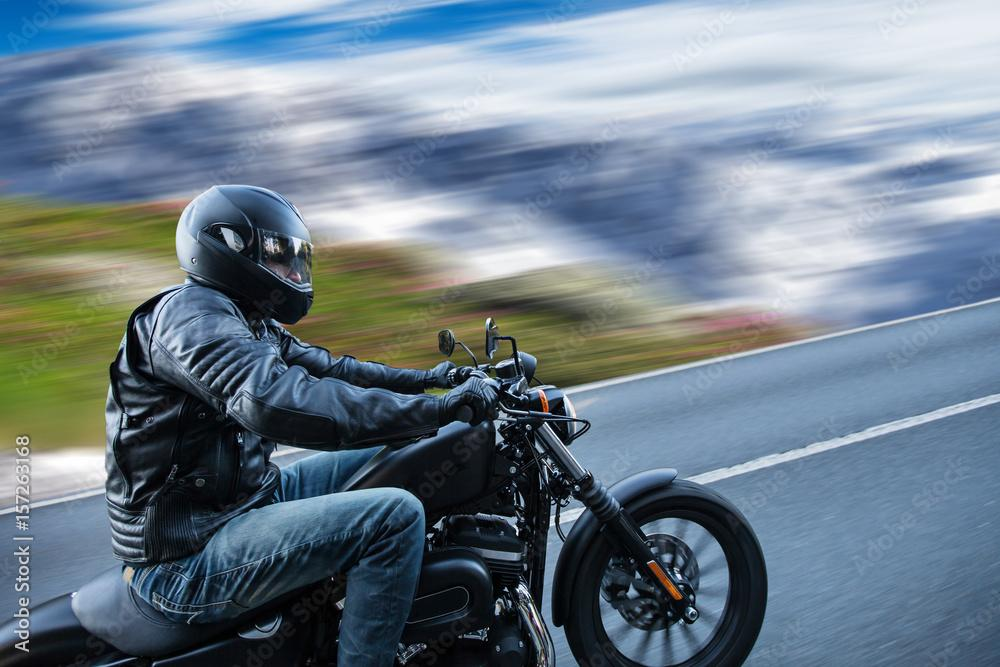helmet: (175, 183, 315, 326)
